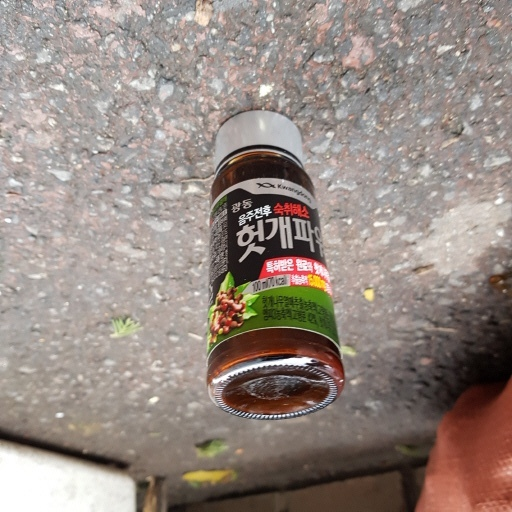Glass_3: (199, 110, 348, 422)
